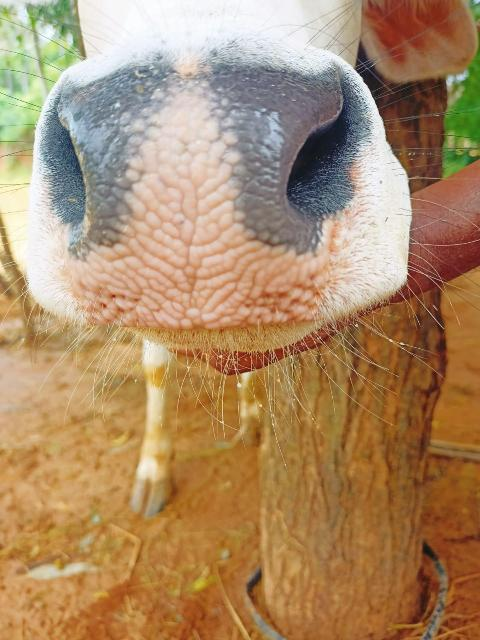Muzzle: (57, 82, 327, 326)
